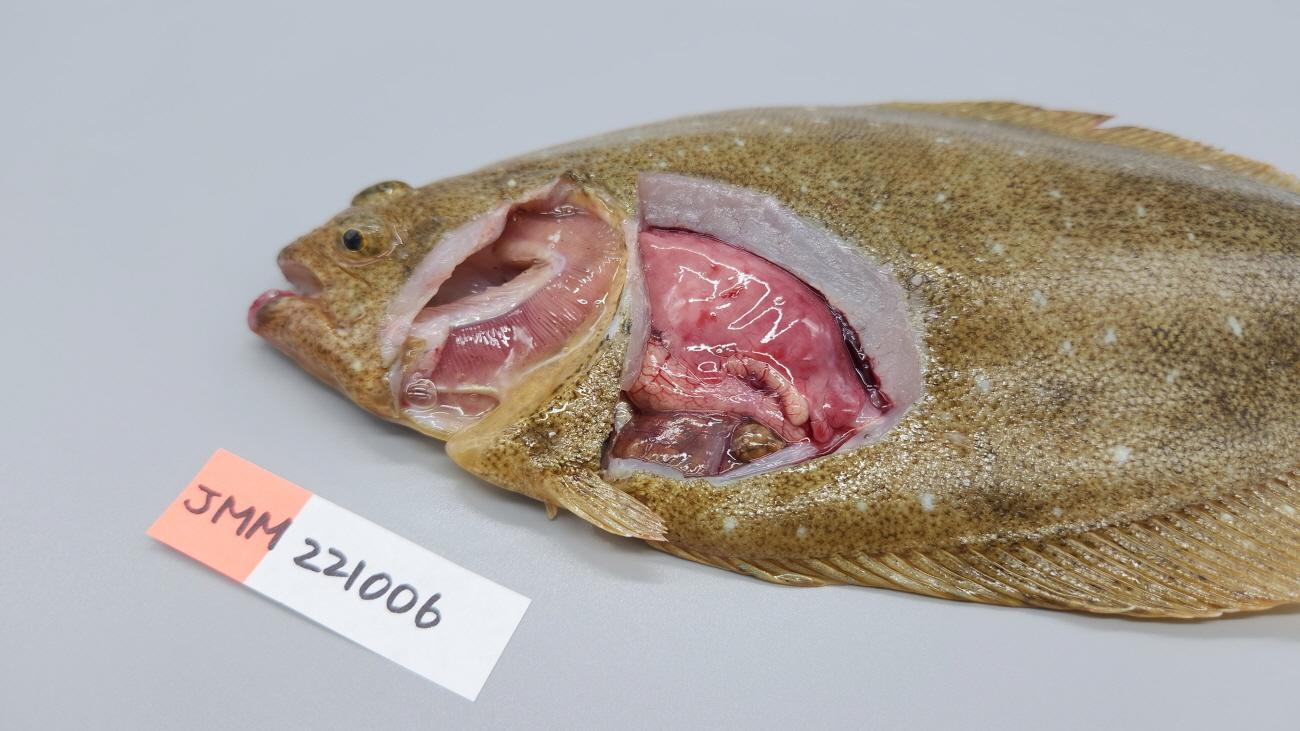POLIN: (637, 228, 868, 444)
